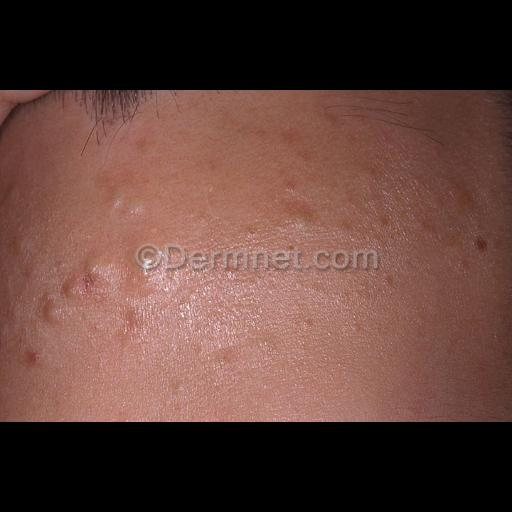Skin_Lesion: (242, 212, 324, 244), (108, 182, 158, 224), (62, 261, 120, 297), (110, 300, 148, 350), (34, 296, 72, 326), (468, 226, 494, 260), (371, 208, 397, 238), (24, 345, 52, 371), (167, 371, 193, 397), (275, 186, 307, 198)
